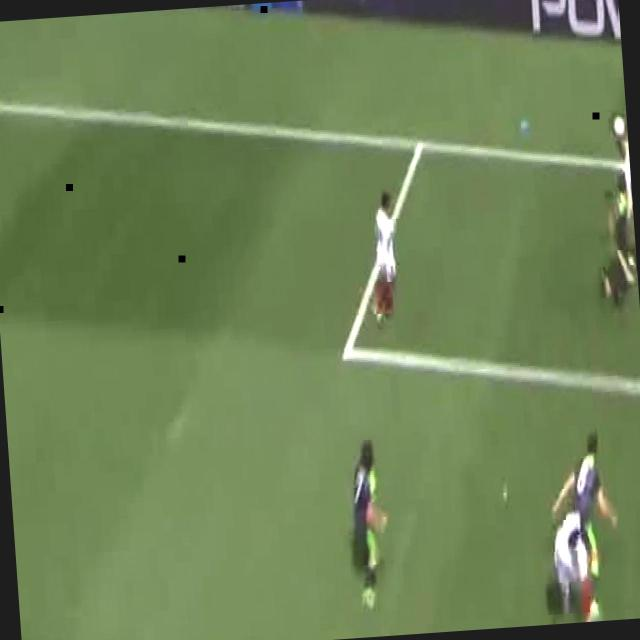ball: (612, 115, 626, 136)
player-white: (545, 426, 623, 624), (593, 173, 639, 306), (551, 507, 590, 610), (618, 136, 638, 277)
